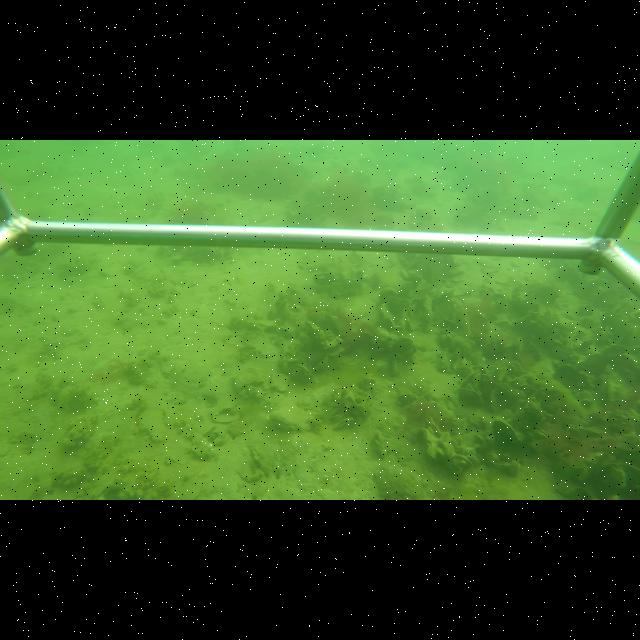Oyster-Closed: (265, 404, 322, 433), (494, 417, 519, 446), (286, 364, 313, 385)
Oyster-Open: (425, 414, 445, 437), (331, 416, 358, 432)
